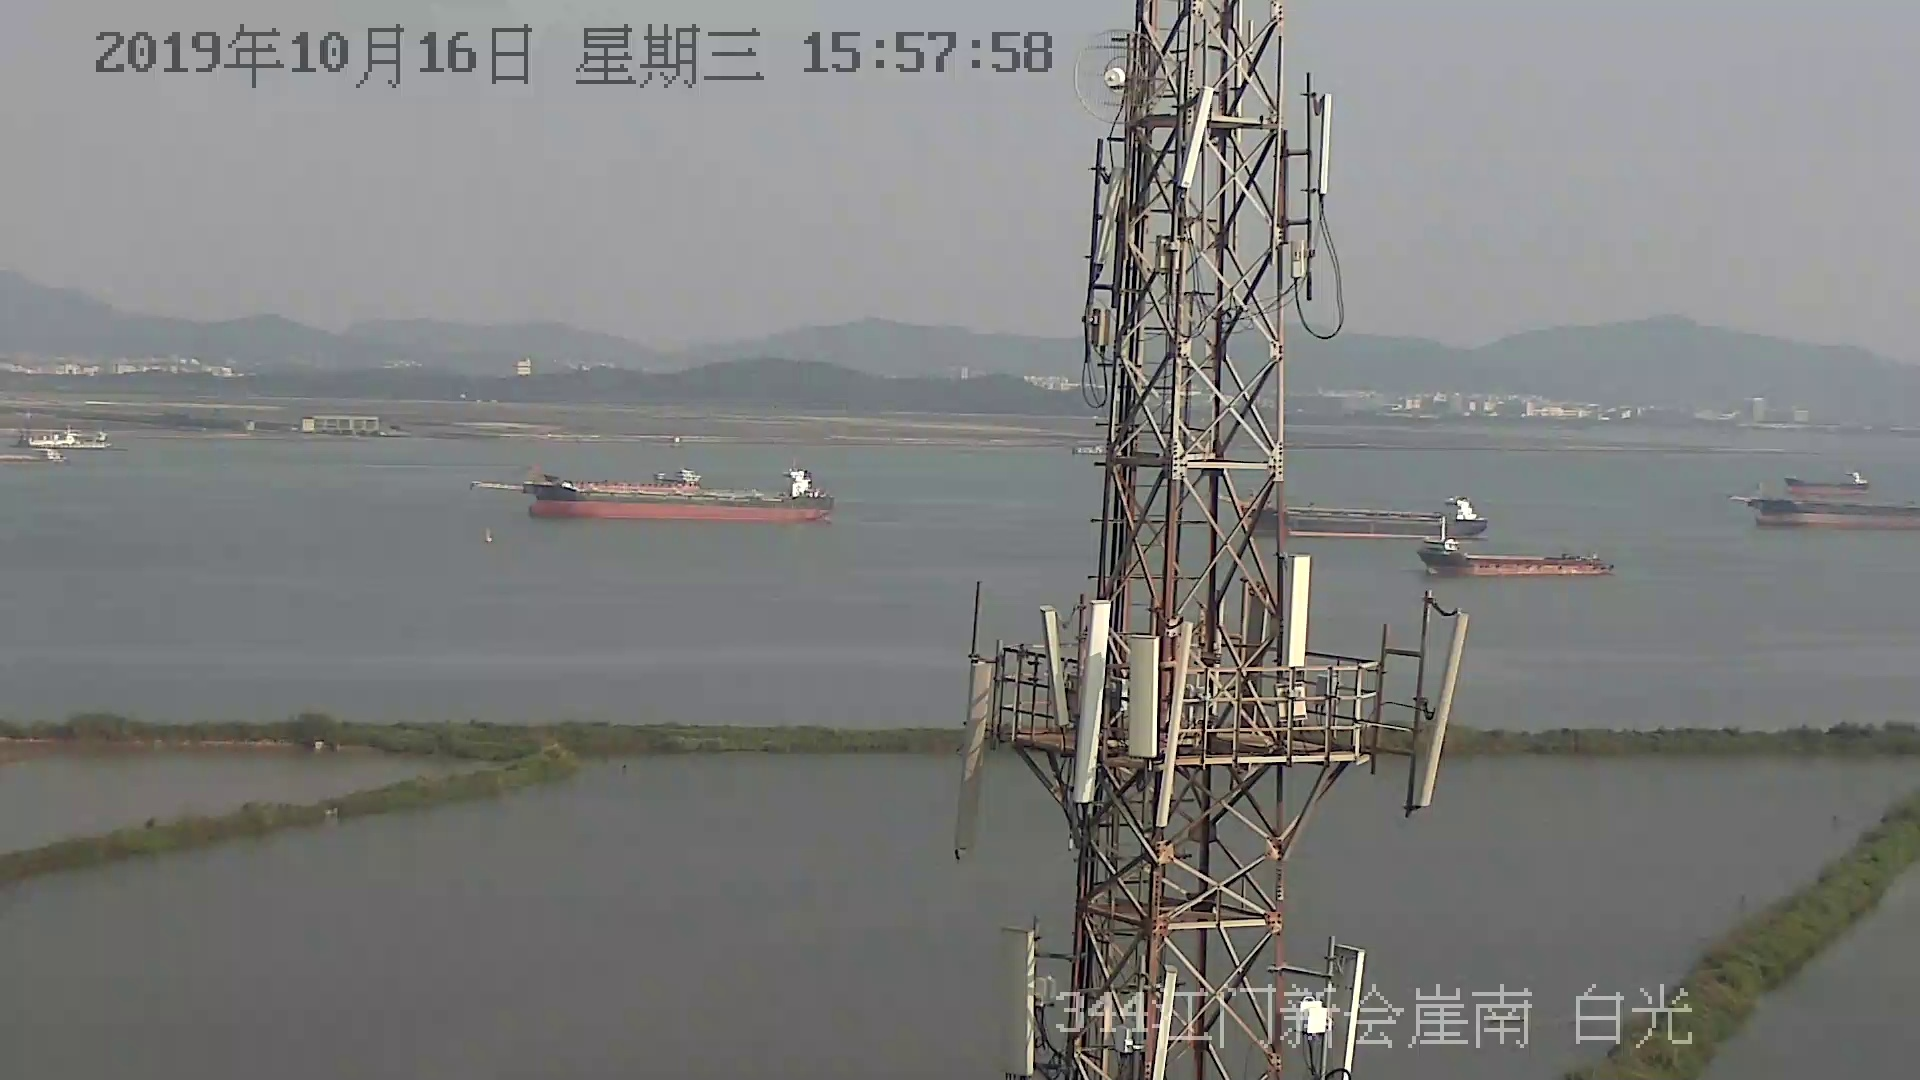ship: (475, 469, 829, 530), (1234, 489, 1493, 545), (1415, 531, 1609, 582), (1754, 491, 1920, 534), (1780, 473, 1869, 500)
